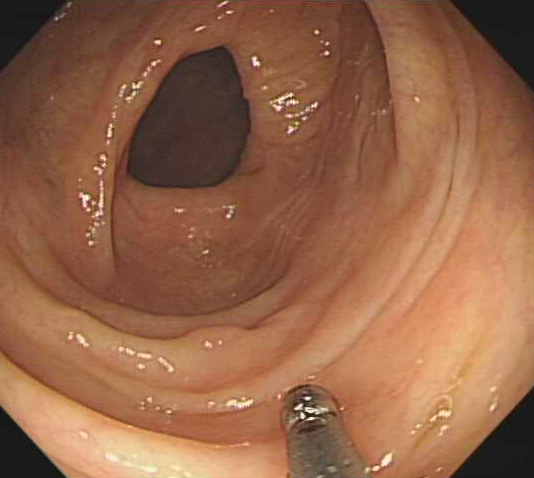adenoma: (175, 318, 256, 355)
